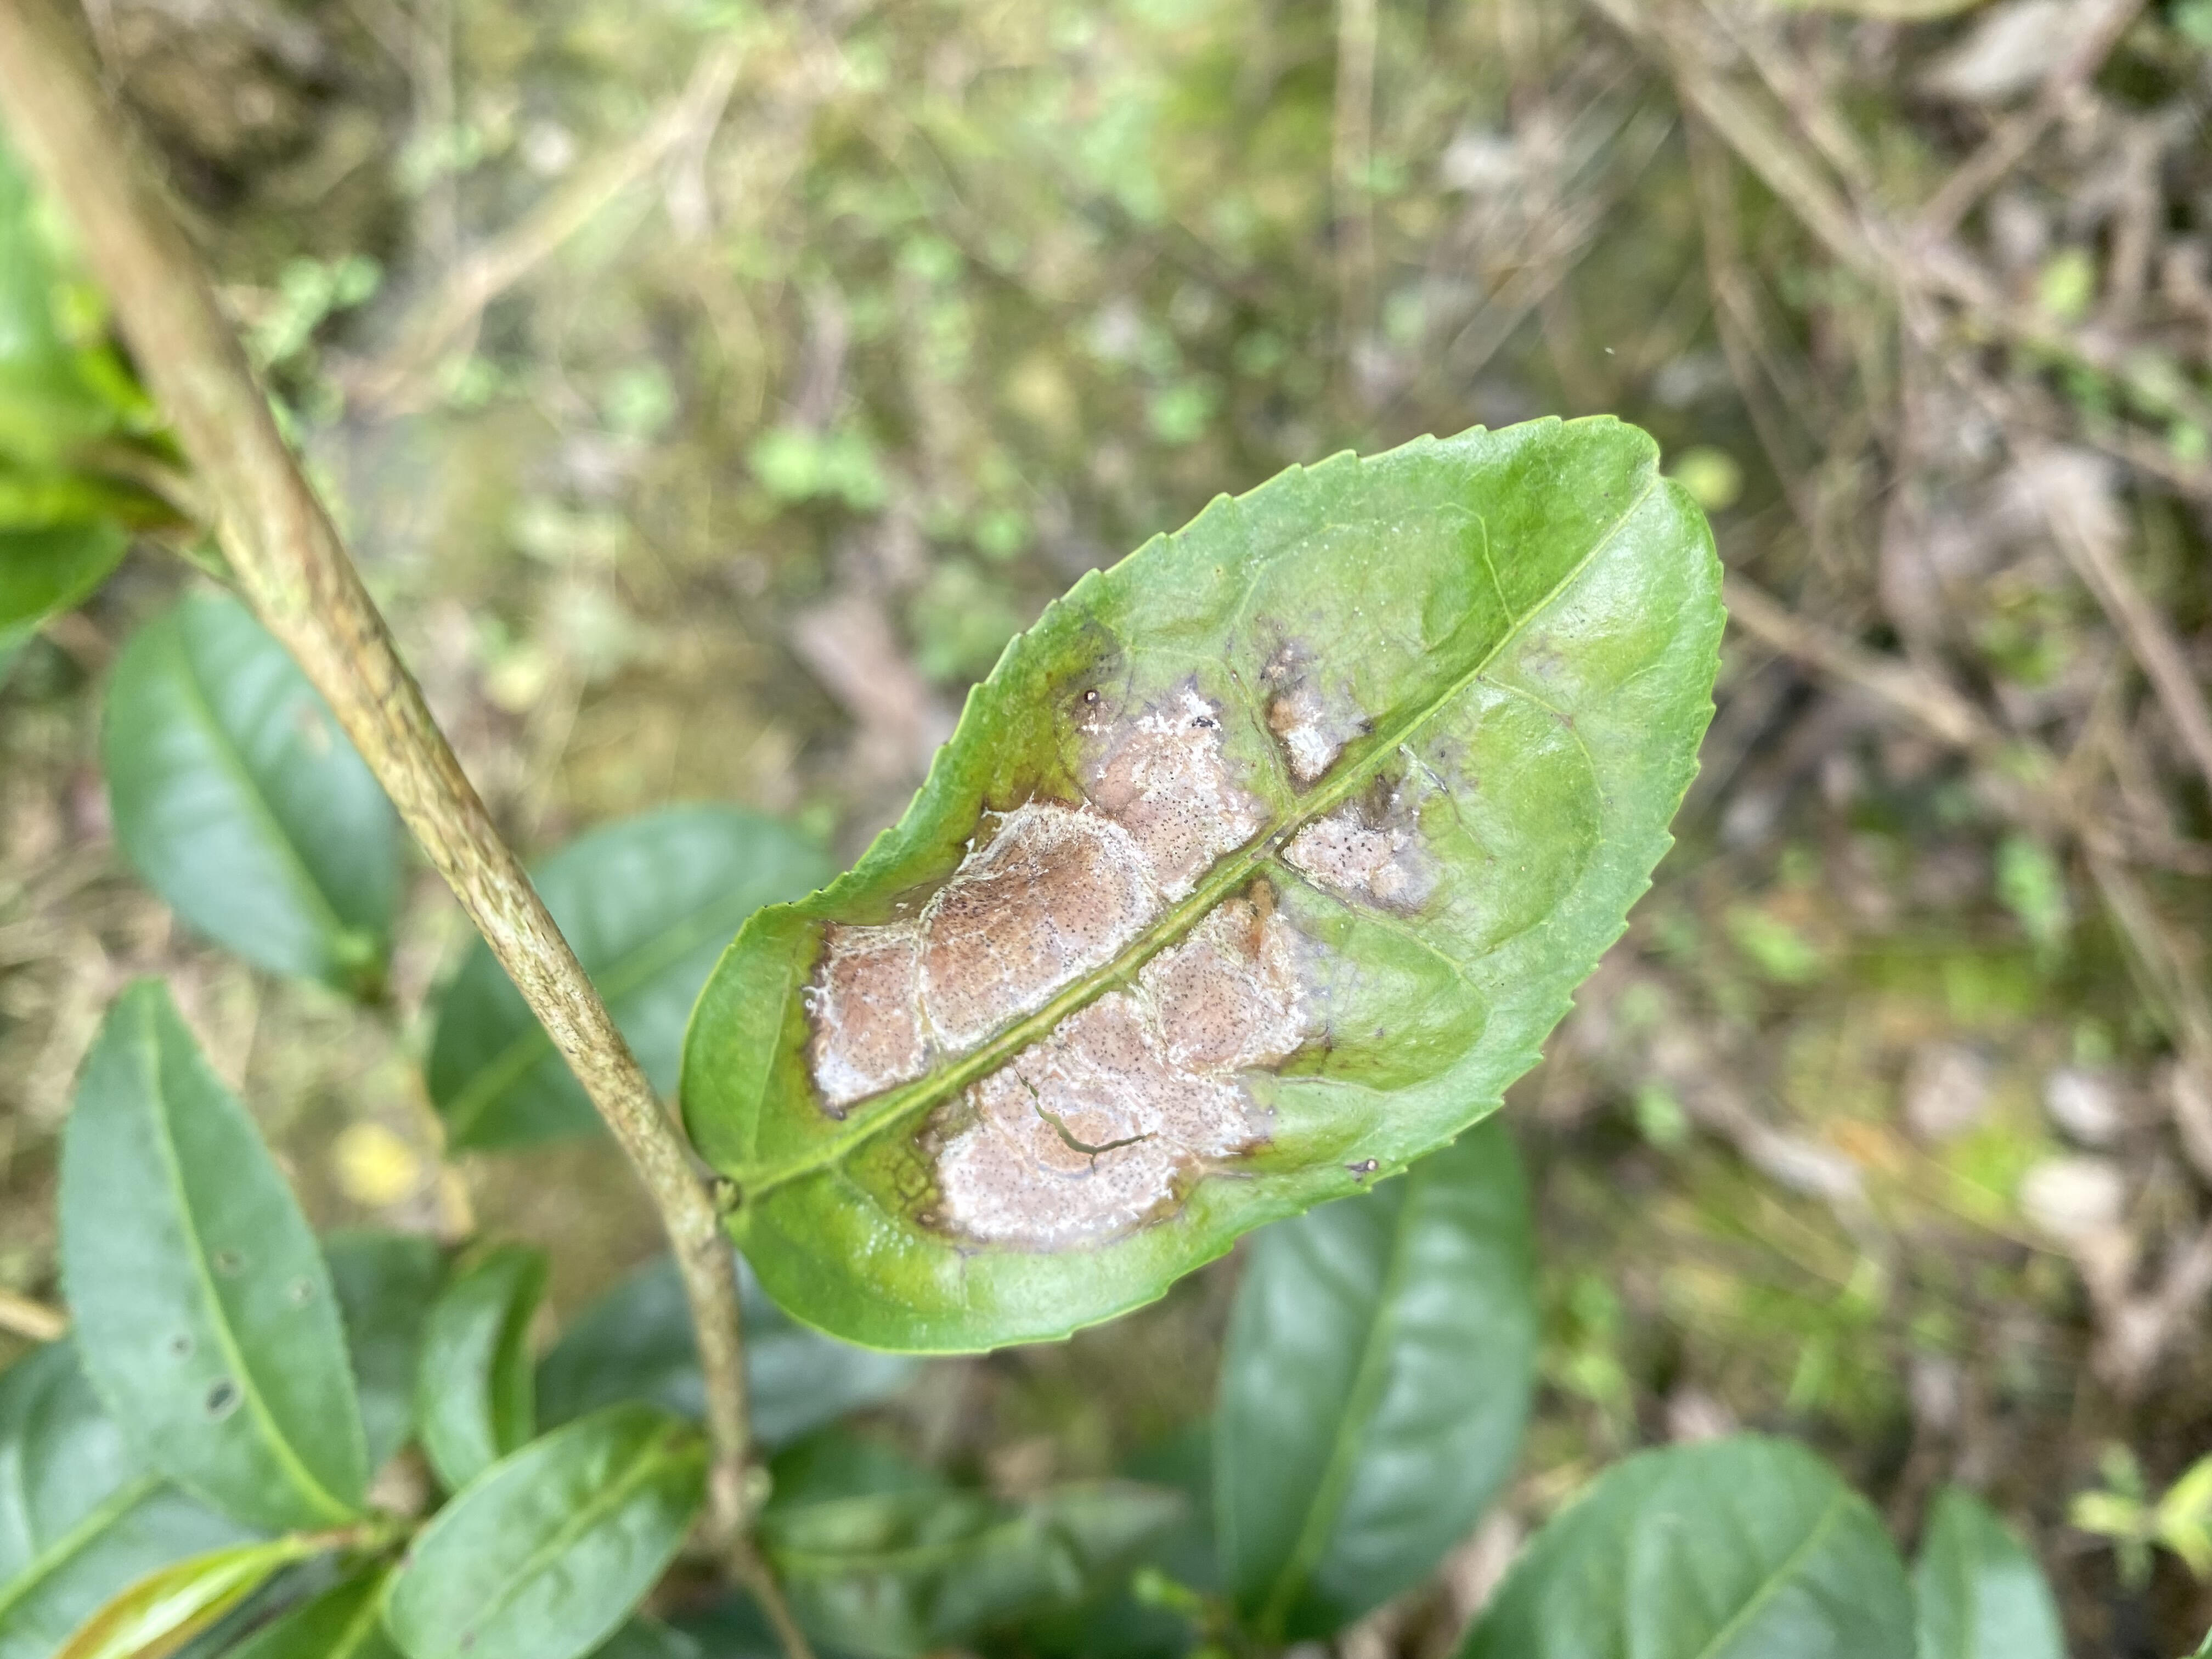chihuo_high: (52, 972, 373, 1528)
tanju_high: (674, 415, 1728, 1352)
